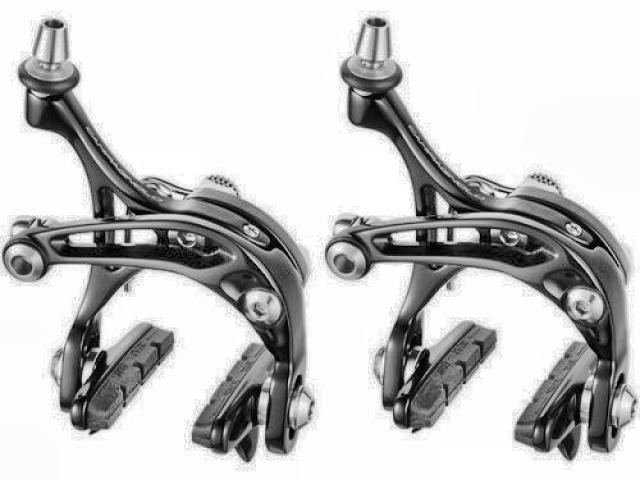rim_brake: (3, 19, 320, 464), (323, 16, 637, 461)
